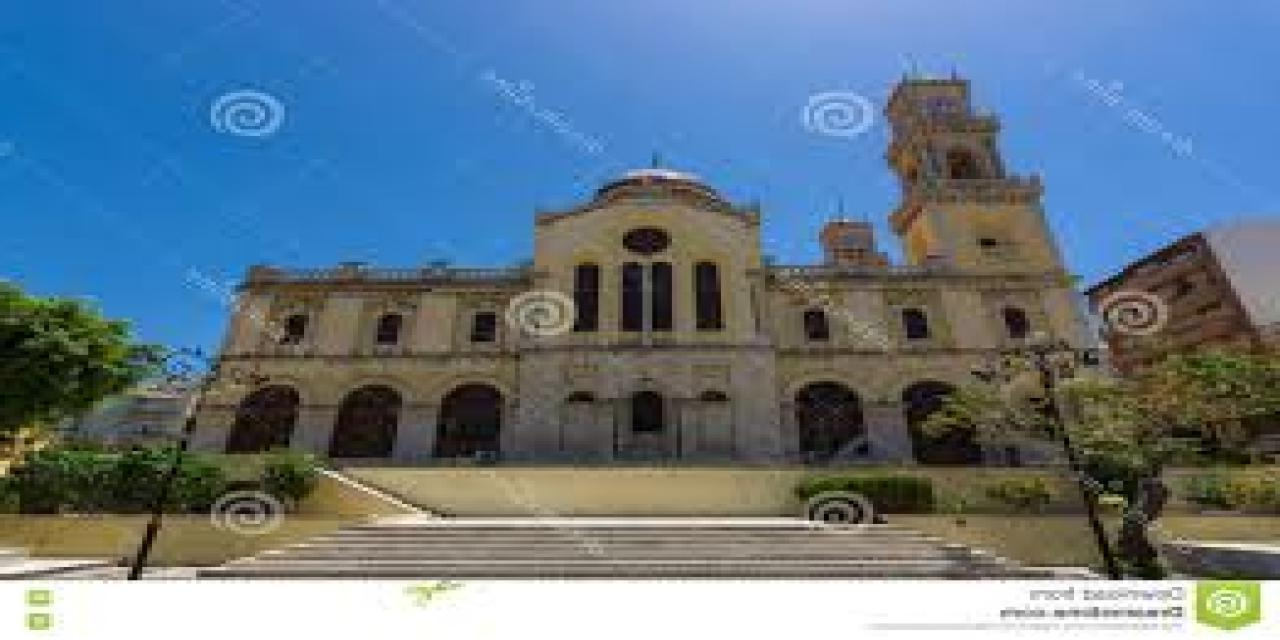Agios Minas: (185, 40, 1127, 455)
